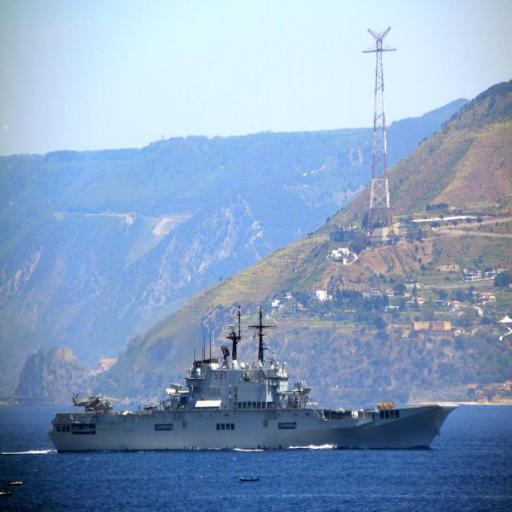Portanaves: (45, 297, 461, 459)
